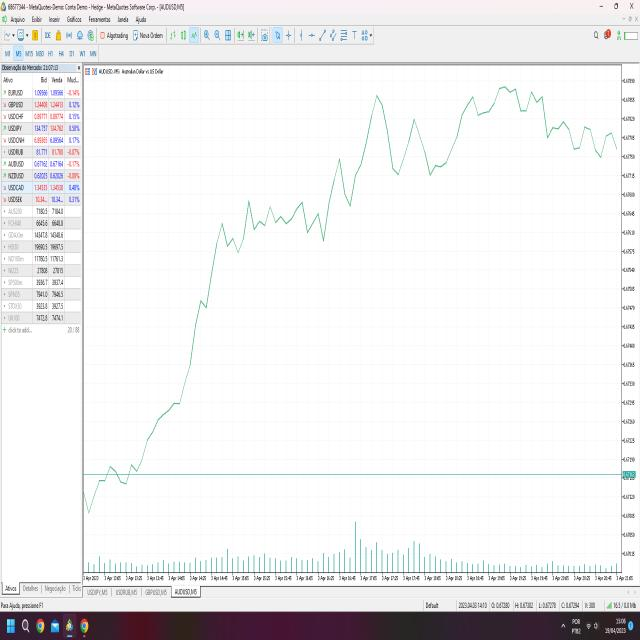oco: (324, 77, 431, 224)
